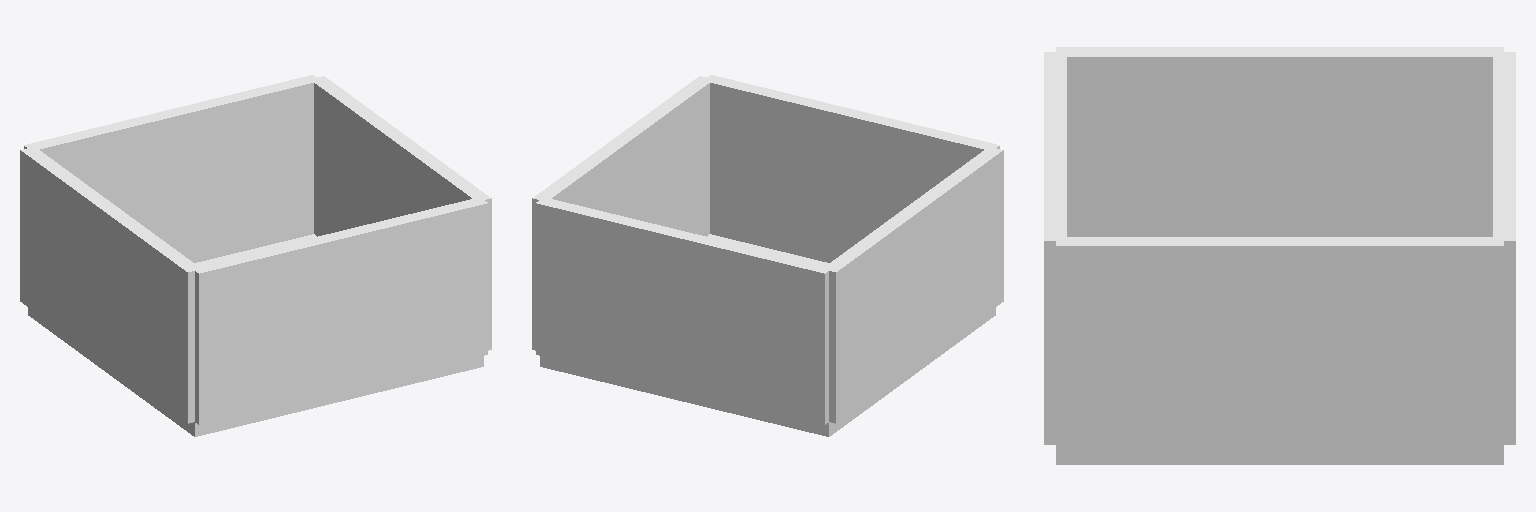
robot.urdf — box:
<?xml version="1.0" ?>
<robot name="box">
  <link name="box">
    <inertial>
      <origin rpy="0 0 0" xyz="0 0 0"/>
      <mass value="1"/>
      <inertia ixx="1" ixy="0" ixz="0" iyy="1" iyz="0" izz="1"/>
    </inertial>
  </link>

  <link name="box_bottom">
    <inertial>
      <origin rpy="0 0 0" xyz="0 0 0"/>
      <mass value="1"/>
      <inertia ixx="1" ixy="0" ixz="0" iyy="1" iyz="0" izz="1"/>
    </inertial>
    <visual>
      <origin rpy="0 0 0" xyz="0 0 0"/>
      <geometry>
        <box size="0.2 0.2 0.01"/>
      </geometry>
      <material name="white">
        <color rgba="1 1 1 1"/>
      </material>
    </visual>
    <collision>
      <origin rpy="0 0 0" xyz="0 0 0"/>
      <geometry>
        <box size="0.2 0.2 0.01"/>
      </geometry>
    </collision>
  </link>

  <joint name="box2b" type="fixed">
    <origin rpy="0 0 0" xyz="0 0 0.005"/>
    <parent link="box"/>
    <child link="box_bottom"/>
  </joint>

  <link name="box_front">
    <inertial>
      <origin rpy="0 0 0" xyz="0 0 0"/>
      <mass value="1"/>
      <inertia ixx="1" ixy="0" ixz="0" iyy="1" iyz="0" izz="1"/>
    </inertial>
    <visual>
      <origin rpy="0 0 0" xyz="0 0 0"/>
      <geometry>
        <box size="0.01 0.2 0.10"/>
      </geometry>
      <material name="white">
        <color rgba="1 1 1 1"/>
      </material>
    </visual>
    <collision>
      <origin rpy="0 0 0" xyz="0 0 0"/>
      <geometry>
        <box size="0.01 0.2 0.10"/>
      </geometry>
    </collision>
  </link>

  <joint name="box2f" type="fixed">
    <origin rpy="0 0 0" xyz="-0.1 0 0.06"/>
    <parent link="box"/>
    <child link="box_front"/>
  </joint>

  <link name="box_back">
    <inertial>
      <origin rpy="0 0 0" xyz="0 0 0"/>
      <mass value="1"/>
      <inertia ixx="1" ixy="0" ixz="0" iyy="1" iyz="0" izz="1"/>
    </inertial>
    <visual>
      <origin rpy="0 0 0" xyz="0 0 0"/>
      <geometry>
        <box size="0.01 0.2 0.10"/>
      </geometry>
      <material name="white">
        <color rgba="1 1 1 1"/>
      </material>
    </visual>
    <collision>
      <origin rpy="0 0 0" xyz="0 0 0"/>
      <geometry>
        <box size="0.01 0.2 0.10"/>
      </geometry>
    </collision>
  </link>

  <joint name="box2ba" type="fixed">
    <origin rpy="0 0 0" xyz="0.1 0 0.06"/>
    <parent link="box"/>
    <child link="box_back"/>
  </joint>

  <link name="box_left">
    <inertial>
      <origin rpy="0 0 0" xyz="0 0 0"/>
      <mass value="1"/>
      <inertia ixx="1" ixy="0" ixz="0" iyy="1" iyz="0" izz="1"/>
    </inertial>
    <visual>
      <origin rpy="0 0 0" xyz="0 0 0"/>
      <geometry>
        <box size="0.2 0.01 0.10"/>
      </geometry>
      <material name="white">
        <color rgba="1 1 1 1"/>
      </material>
    </visual>
    <collision>
      <origin rpy="0 0 0" xyz="0 0 0"/>
      <geometry>
        <box size="0.2 0.01 0.10"/>
      </geometry>
    </collision>
  </link>

  <joint name="box2l" type="fixed">
    <origin rpy="0 0 0" xyz="0 0.1 0.06"/>
    <parent link="box"/>
    <child link="box_left"/>
  </joint>

  <link name="box_right">
    <inertial>
      <origin rpy="0 0 0" xyz="0 0 0"/>
      <mass value="1"/>
      <inertia ixx="1" ixy="0" ixz="0" iyy="1" iyz="0" izz="1"/>
    </inertial>
    <visual>
      <origin rpy="0 0 0" xyz="0 0 0"/>
      <geometry>
        <box size="0.2 0.01 0.10"/>
      </geometry>
      <material name="white">
        <color rgba="1 1 1 1"/>
      </material>
    </visual>
    <collision>
      <origin rpy="0 0 0" xyz="0 0 0"/>
      <geometry>
        <box size="0.2 0.01 0.10"/>
      </geometry>
    </collision>
  </link>

  <joint name="box2r" type="fixed">
    <origin rpy="0 0 0" xyz="0 -0.1 0.06"/>
    <parent link="box"/>
    <child link="box_right"/>
  </joint>

</robot>


<!-- <?xml version="1.0" ?>
<robot name="box">
  <link name="box">
    <inertial>
      <origin rpy="0 0 0" xyz="0 0 0"/>
      <mass value="1"/>
      <inertia ixx="1" ixy="0" ixz="0" iyy="1" iyz="0" izz="1"/>
    </inertial>
  </link>

  <link name="box_bottom">
    <inertial>
      <origin rpy="0 0 0" xyz="0 0 0"/>
      <mass value="1"/>
      <inertia ixx="1" ixy="0" ixz="0" iyy="1" iyz="0" izz="1"/>
    </inertial>
    <visual>
      <origin rpy="0 0 0" xyz="0 0 0"/>
      <geometry>
        <box size="0.2 0.2 0.01"/>
      </geometry>
      <material name="white">
        <color rgba="1 1 1 1"/>
      </material>
    </visual>
    <collision>
      <origin rpy="0 0 0" xyz="0 0 0.0"/>
      <geometry>
        <box size="0.2 0.2 0.01"/>
      </geometry>
    </collision>
  </link>

  <joint name="box2b" type="fixed">
    <origin rpy="0 0 0" xyz="0 0 0.005"/>
    <parent link="box"/>
    <child link="box_bottom"/>
  </joint>

  <link name="box_front">
    <inertial>
      <origin rpy="0 0 0" xyz="0 0 0"/>
      <mass value="1"/>
      <inertia ixx="1" ixy="0" ixz="0" iyy="1" iyz="0" izz="1"/>
    </inertial>
    <visual>
      <origin rpy="0 0 0" xyz="0 0 0"/>
      <geometry>
        <box size="0.01 0.2 0.2"/>
      </geometry>
      <material name="white">
        <color rgba="1 1 1 1"/>
      </material>
    </visual>
    <collision>
      <origin rpy="0 0 0" xyz="0 0 0"/>
      <geometry>
        <box size="0.01 0.2 0.2"/>
      </geometry>
    </collision>
  </link>

  <joint name="box2f" type="fixed">
    <origin rpy="0 0 0" xyz="-0.1 0 0.1"/>
    <parent link="box"/>
    <child link="box_front"/>
  </joint>

  <link name="box_back">
    <inertial>
      <origin rpy="0 0 0" xyz="0 0 0"/>
      <mass value="1"/>
      <inertia ixx="1" ixy="0" ixz="0" iyy="1" iyz="0" izz="1"/>
    </inertial>
    <visual>
      <origin rpy="0 0 0" xyz="0 0 0"/>
      <geometry>
        <box size="0.01 0.2 0.2"/>
      </geometry>
      <material name="white">
        <color rgba="1 1 1 1"/>
      </material>
    </visual>
    <collision>
      <origin rpy="0 0 0" xyz="0 0 0"/>
      <geometry>
        <box size="0.01 0.2 0.2"/>
      </geometry>
    </collision>
  </link>

  <joint name="box2ba" type="fixed">
    <origin rpy="0 0 0" xyz="0.1 0 0.1"/>
    <parent link="box"/>
    <child link="box_back"/>
  </joint>

  <link name="box_left">
    <inertial>
      <origin rpy="0 0 0" xyz="0 0 0"/>
      <mass value="1"/>
      <inertia ixx="1" ixy="0" ixz="0" iyy="1" iyz="0" izz="1"/>
    </inertial>
    <visual>
      <origin rpy="0 0 0" xyz="0 0 0"/>
      <geometry>
        <box size="0.2 0.01 0.2"/>
      </geometry>
      <material name="white">
        <color rgba="1 1 1 1"/>
      </material>
    </visual>
    <collision>
      <origin rpy="0 0 0" xyz="0 0 0"/>
      <geometry>
        <box size="0.2 0.01 0.2"/>
      </geometry>
    </collision>
  </link>

  <joint name="box2l" type="fixed">
    <origin rpy="0 0 0" xyz="0 0.1 0.1"/>
    <parent link="box"/>
    <child link="box_left"/>
  </joint>

  <link name="box_right">
    <inertial>
      <origin rpy="0 0 0" xyz="0 0 0"/>
      <mass value="1"/>
      <inertia ixx="1" ixy="0" ixz="0" iyy="1" iyz="0" izz="1"/>
    </inertial>
    <visual>
      <origin rpy="0 0 0" xyz="0 0 0"/>
      <geometry>
        <box size="0.2 0.01 0.2"/>
      </geometry>
      <material name="white">
        <color rgba="1 1 1 1"/>
      </material>
    </visual>
    <collision>
      <origin rpy="0 0 0" xyz="0 0 0"/>
      <geometry>
        <box size="0.2 0.01 0.2"/>
      </geometry>
    </collision>
  </link>

  <joint name="box2r" type="fixed">
    <origin rpy="0 0 0" xyz="0 -0.1 0.1"/>
    <parent link="box"/>
    <child link="box_right"/>
  </joint>

</robot> -->

--- Facts derived from the render (not from the file) ---
The picture shows the robot from 3 angles, left to right: view 1: azimuth 30°, elevation 25°; view 2: azimuth 150°, elevation 25°; view 3: azimuth 270°, elevation 25°; orthographic projection.
Model box with 6 links and 5 joints (5 fixed), rooted at box, posed every joint at zero.
Visible links, largest first — view 1: box_right, box_left, box_front, box_back, box_bottom; view 2: box_left, box_right, box_front, box_back, box_bottom; view 3: box_back, box_front, box_bottom, box_right, box_left.
Boxes of the visible links, x1,y1,x2,y2 form: box_right: [191, 197, 487, 424]; box_left: [24, 75, 319, 262]; box_front: [20, 148, 199, 423]; box_back: [310, 76, 491, 350]; box_bottom: [28, 234, 483, 436]; box_left: [536, 197, 832, 424]; box_right: [703, 75, 999, 262]; box_front: [824, 147, 1003, 423]; box_back: [532, 76, 713, 350]; box_bottom: [540, 234, 995, 436]; box_back: [1056, 237, 1503, 448]; box_front: [1056, 47, 1503, 236]; box_bottom: [1056, 449, 1503, 464]; box_right: [1044, 52, 1066, 444]; box_left: [1493, 52, 1515, 444].
Size in the robot's own frame: 0.21 by 0.21 by 0.11 metres.
Geometry: primitives only (box / cylinder / sphere), no mesh files.